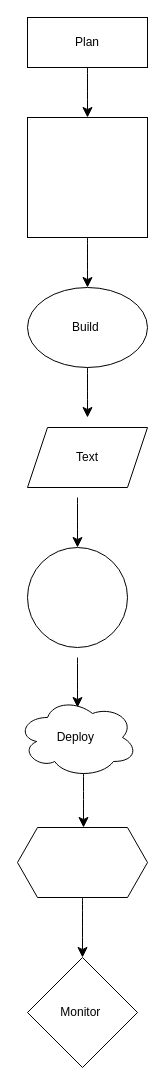
This 165x1085 diagram has some shape labels left out. The shapes that lost their labels are listed below. From the top down, each one's box as (x1, y1, x2, y2) in pixels, then its label:
(26, 116, 148, 238): Develope
(26, 546, 128, 648): Release
(16, 826, 148, 898): Operate
